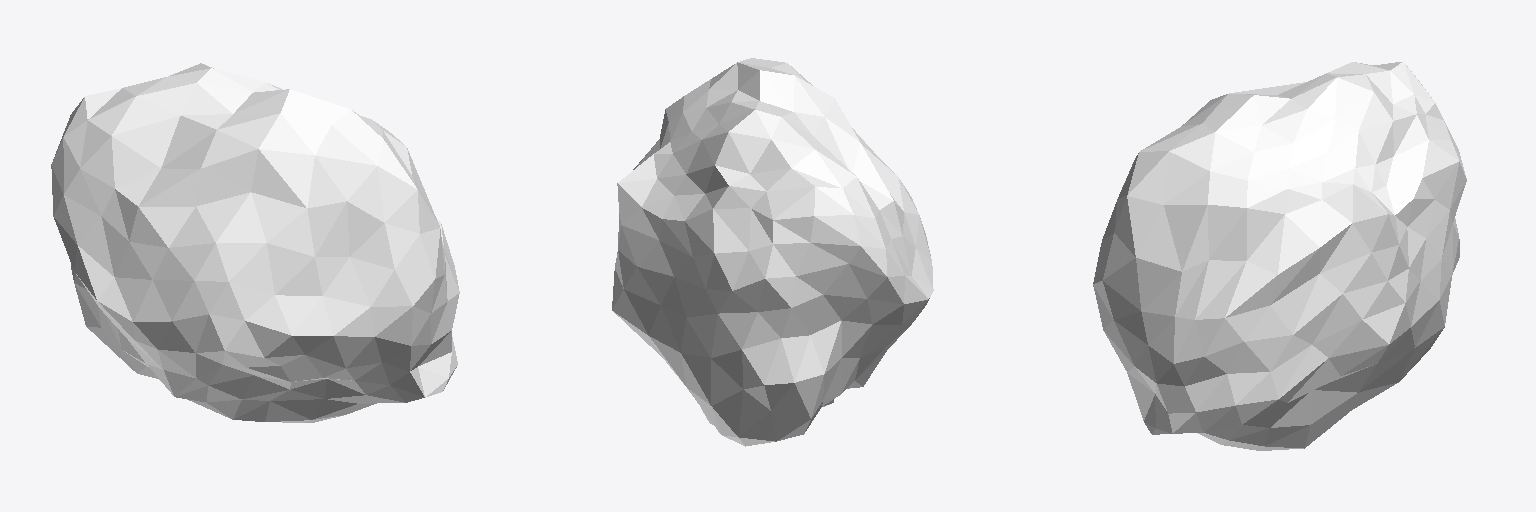
The model's file is asteroid17.obj.
The picture shows the model from 3 angles: view 1: azimuth 30°, elevation 25°; view 2: azimuth 150°, elevation 25°; view 3: azimuth 270°, elevation 25°; orthographic projection.
Visible parts, largest first — view 1: asteroid; view 2: asteroid; view 3: asteroid.
Part boxes in pixels (x1,y1,x2,y2): asteroid: (51, 63, 459, 422); asteroid: (612, 58, 933, 446); asteroid: (1093, 61, 1466, 450).
Size of the model in its own units: 47.1 by 47.85 by 47.35.